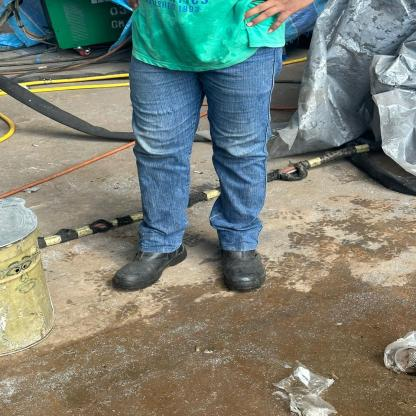bota: (113, 239, 191, 290), (205, 239, 271, 299)
